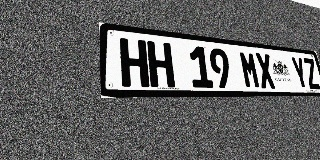1: (188, 45, 214, 88)
9: (208, 47, 233, 88)
H: (120, 38, 149, 87), (147, 41, 175, 87)
M: (239, 51, 261, 88)
X: (255, 53, 276, 89)
Y: (290, 56, 310, 89)
Z: (302, 58, 320, 89)
